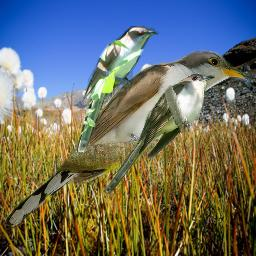Cuckoo: (0, 48, 254, 231), (103, 72, 215, 198), (77, 26, 159, 152)
